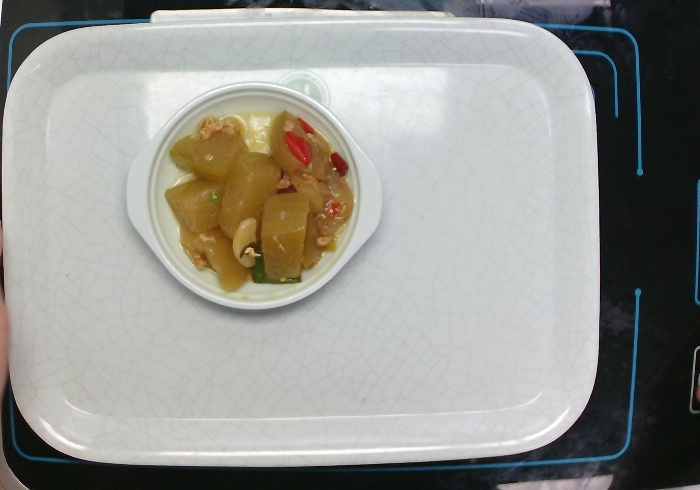JYsf-Shuang_Er_Pan: (125, 80, 384, 312)
